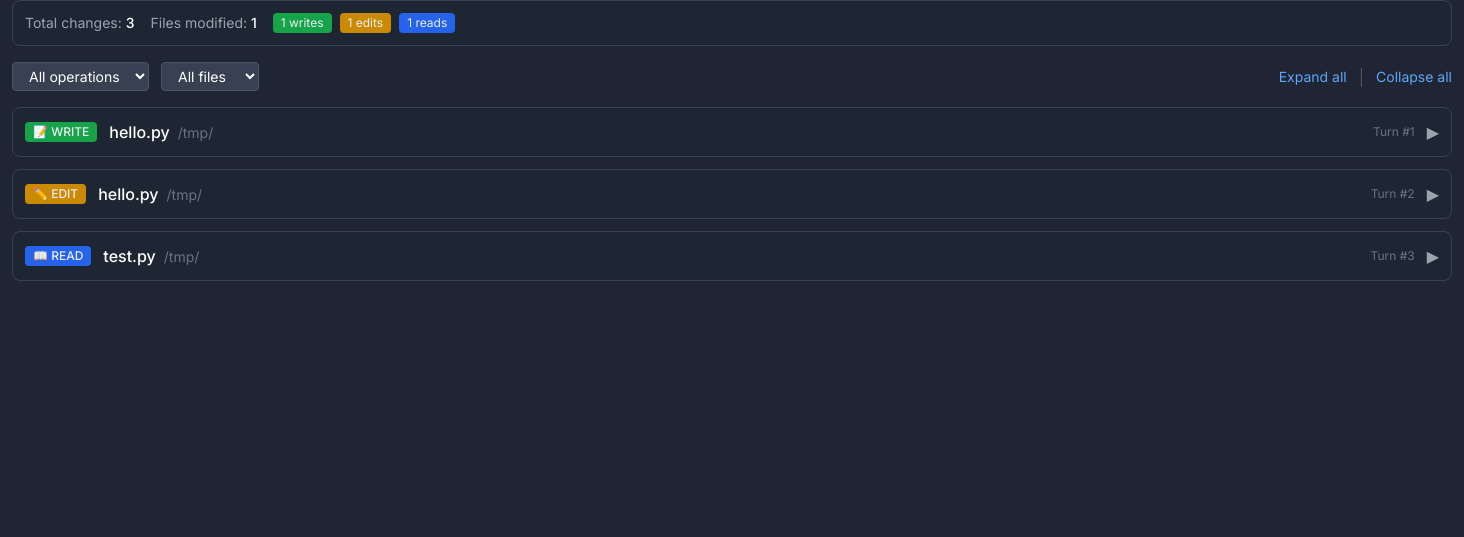
Scenario: CodeDiffViewer › collapses all cards
Note: First expand all
Click the button "Expand all".
click(1313, 76)  # box [1279, 66, 1347, 86]
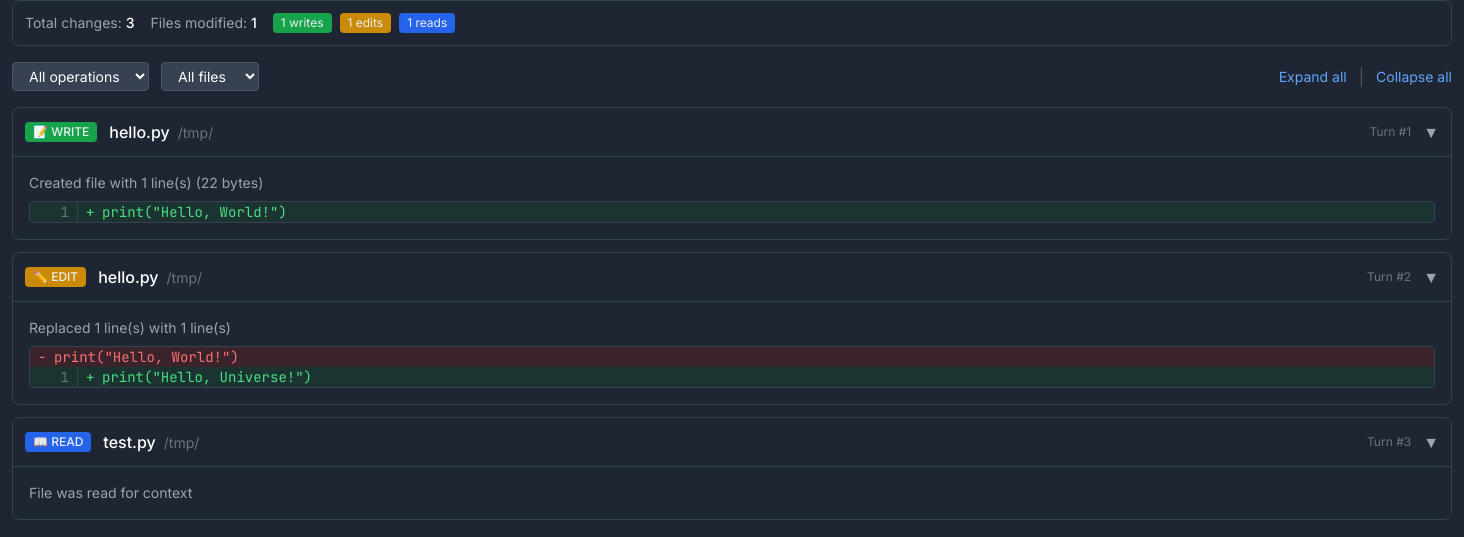
Note: Then collapse all
Click the button "Collapse all".
click(1414, 76)  # box [1376, 66, 1452, 86]
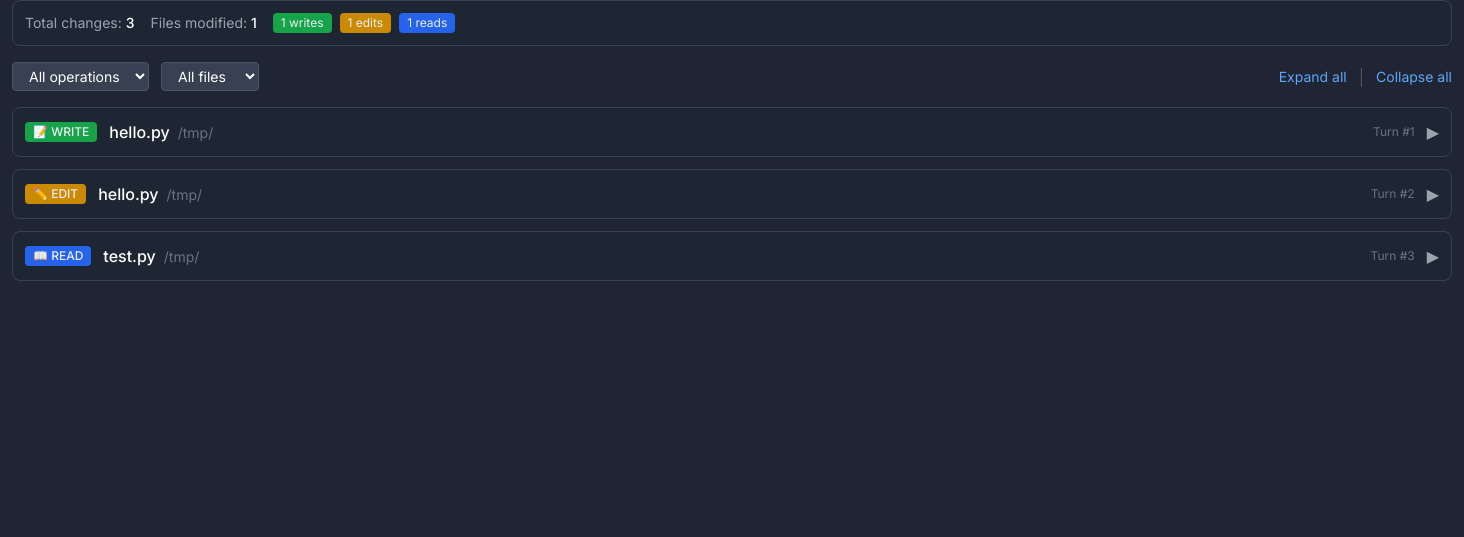
Expected: the text "print(\"Hello, World!\")" is gone
Expected: the text "File was read for context" is gone
